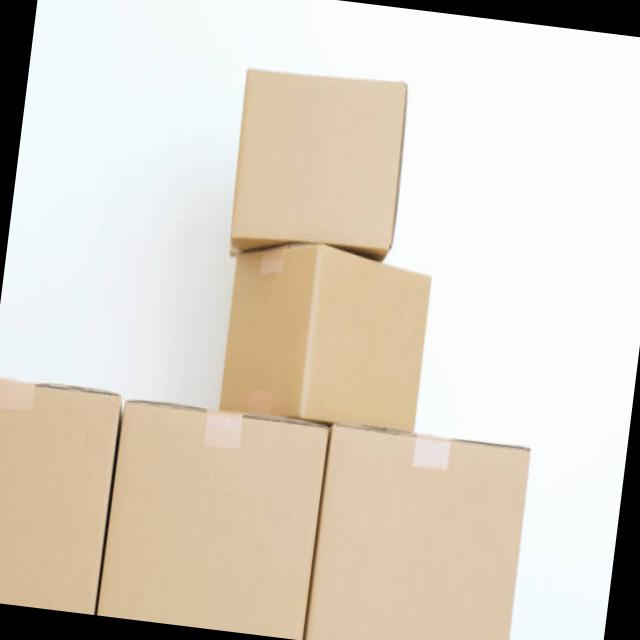electronic: (94, 395, 329, 640), (303, 420, 532, 640), (216, 232, 435, 433), (224, 60, 413, 270), (0, 373, 123, 614)
